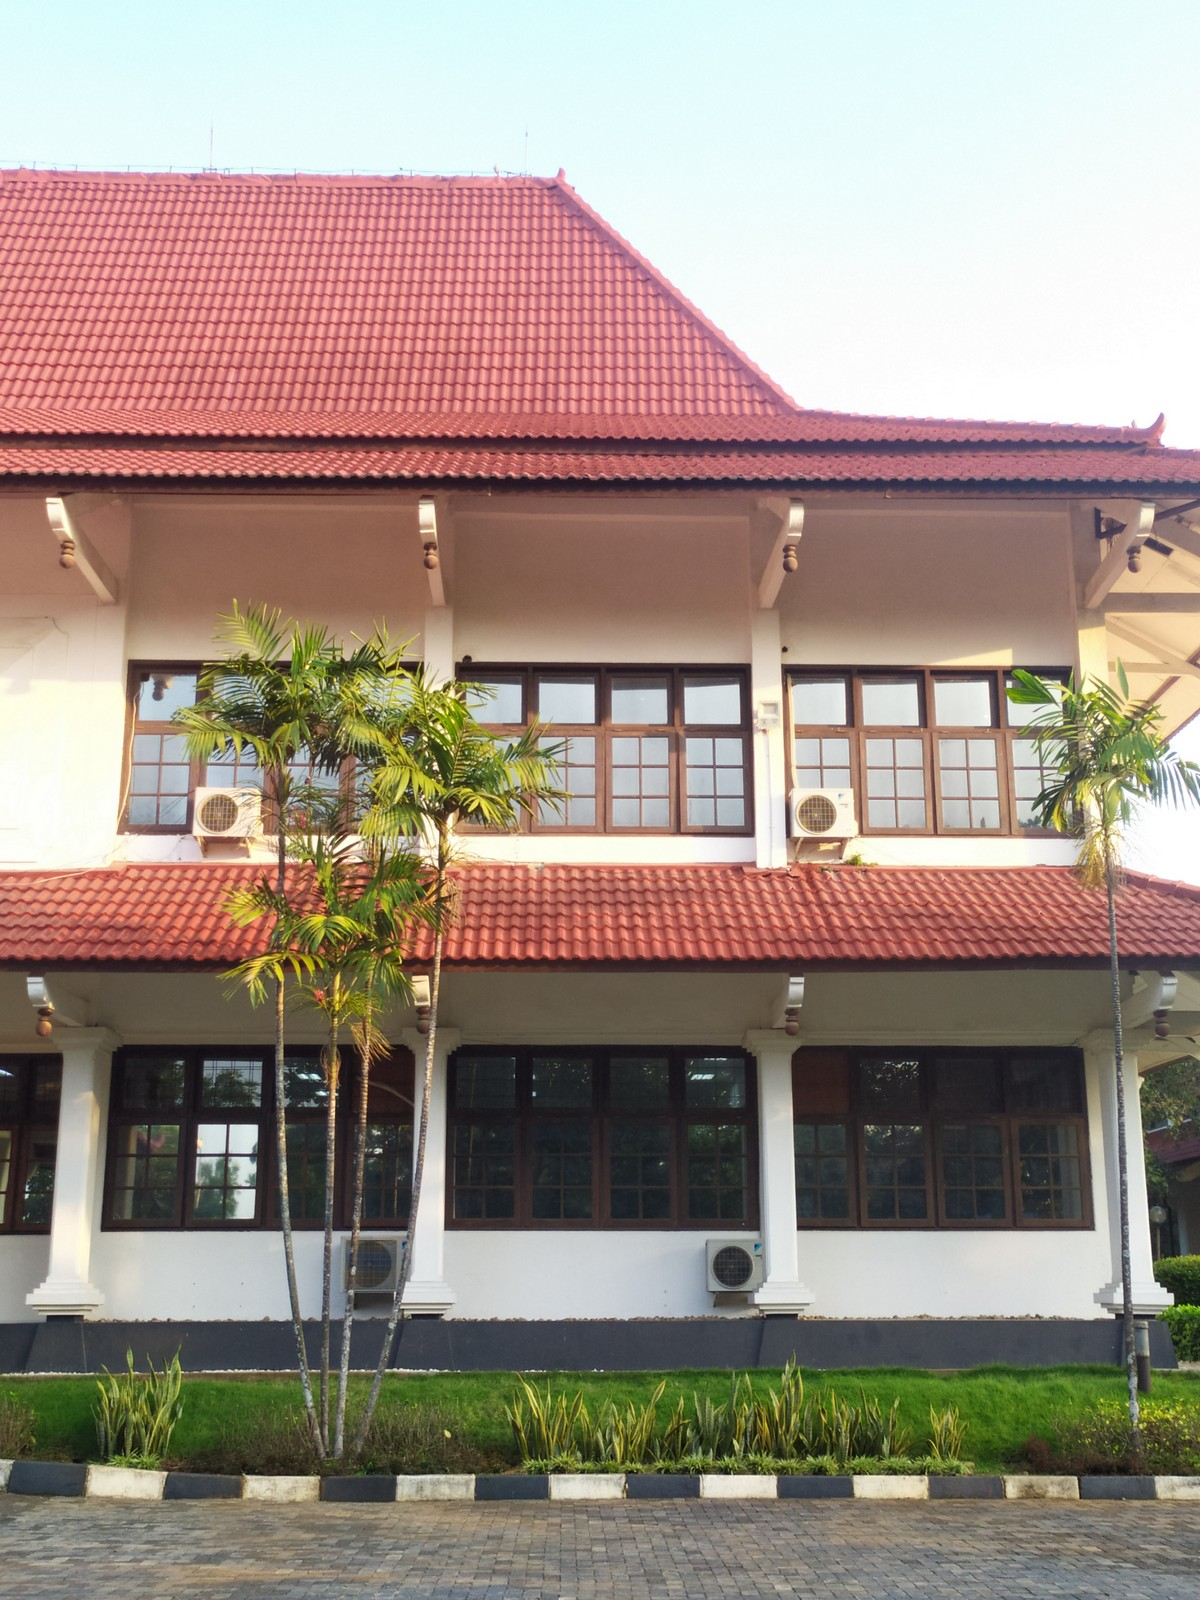concrete column: (42, 1032, 111, 1291), (746, 572, 795, 869), (1103, 1049, 1158, 1288), (756, 1043, 805, 1296)
